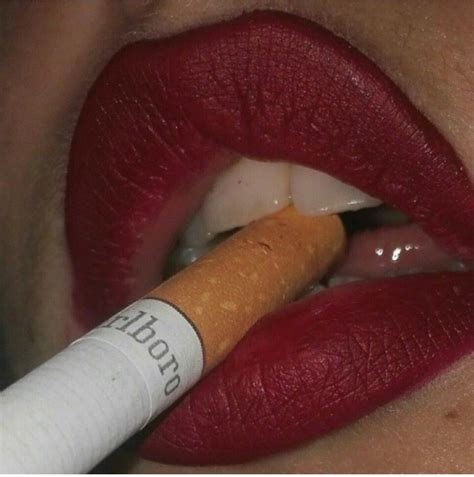cigarette: (1, 210, 347, 473)
